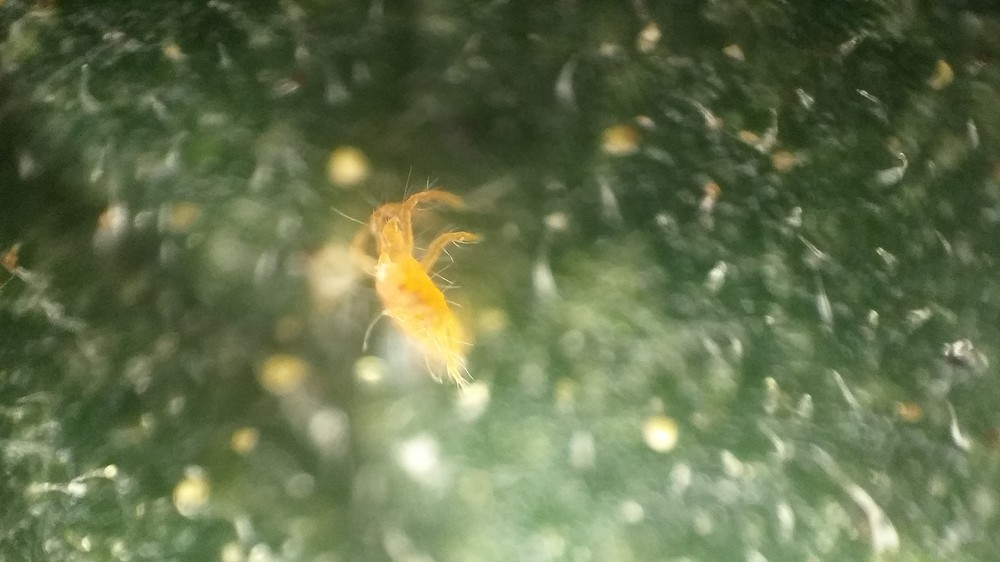Aracnido Rojo: (329, 188, 520, 405)
